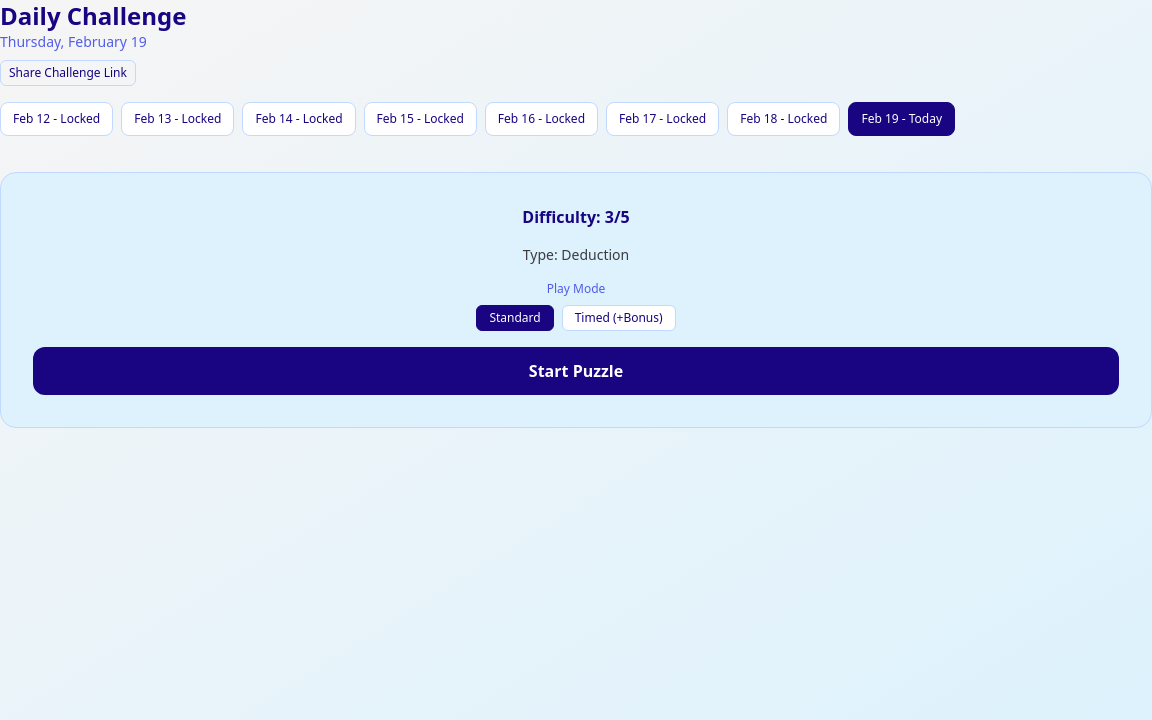
Test: PuzzleView › renders deduction puzzle clues and question after start
Click the button "Start Puzzle": point(576, 371) [33,347,1119,395]
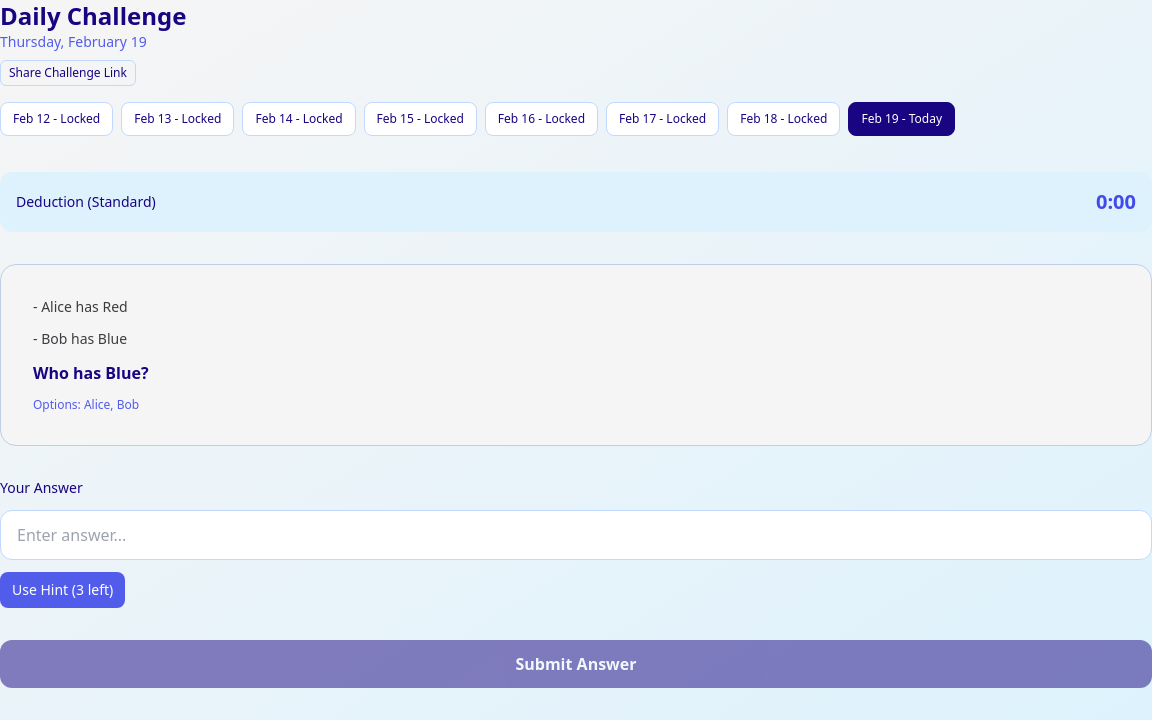
Now the text "- Alice has Red" is shown, box [33,297,128,316]
Now the text "Who has Blue?" is shown, box [33,362,149,384]
